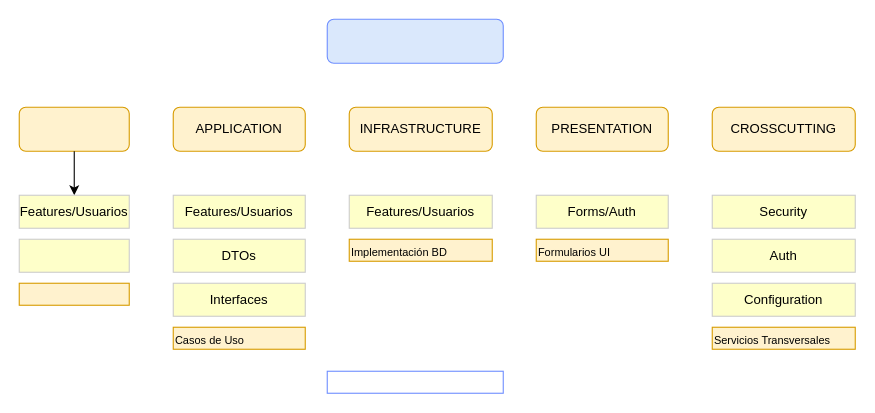
Image size: 875x413. Some labels were removed from this diagram. Here are the shapes that lost their labels. From the top down, the centre of each, then its label:
point (414, 40): TP_INTEGRADOR
point (73, 128): DOMAIN
point (73, 255): Exceptions
point (73, 293): Propiedades de Entidades
point (414, 381): Arquitectura DDD/Capas
